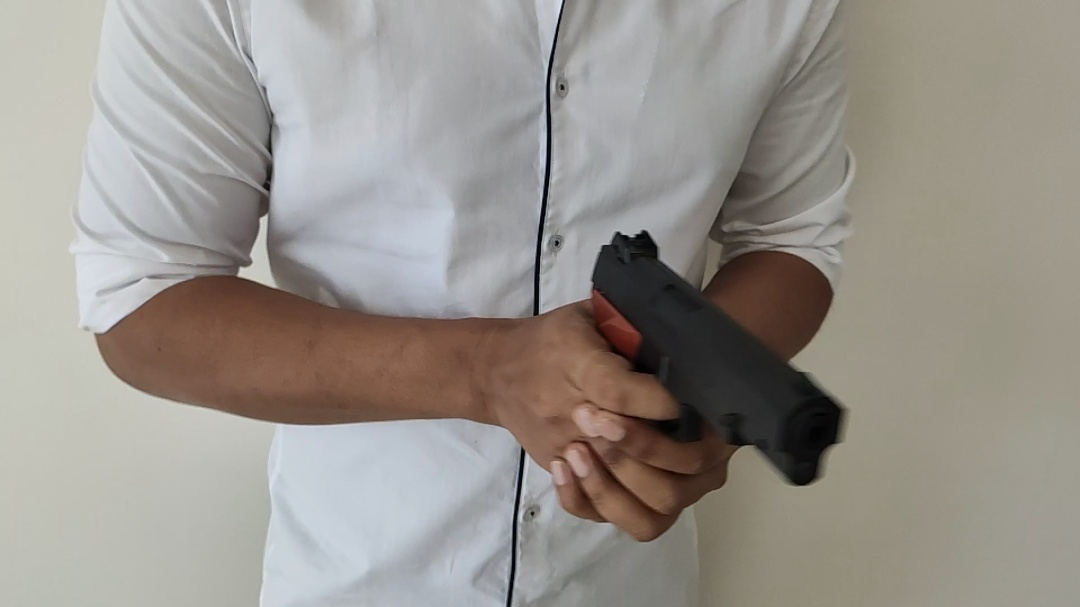gun: (589, 228, 845, 483)
